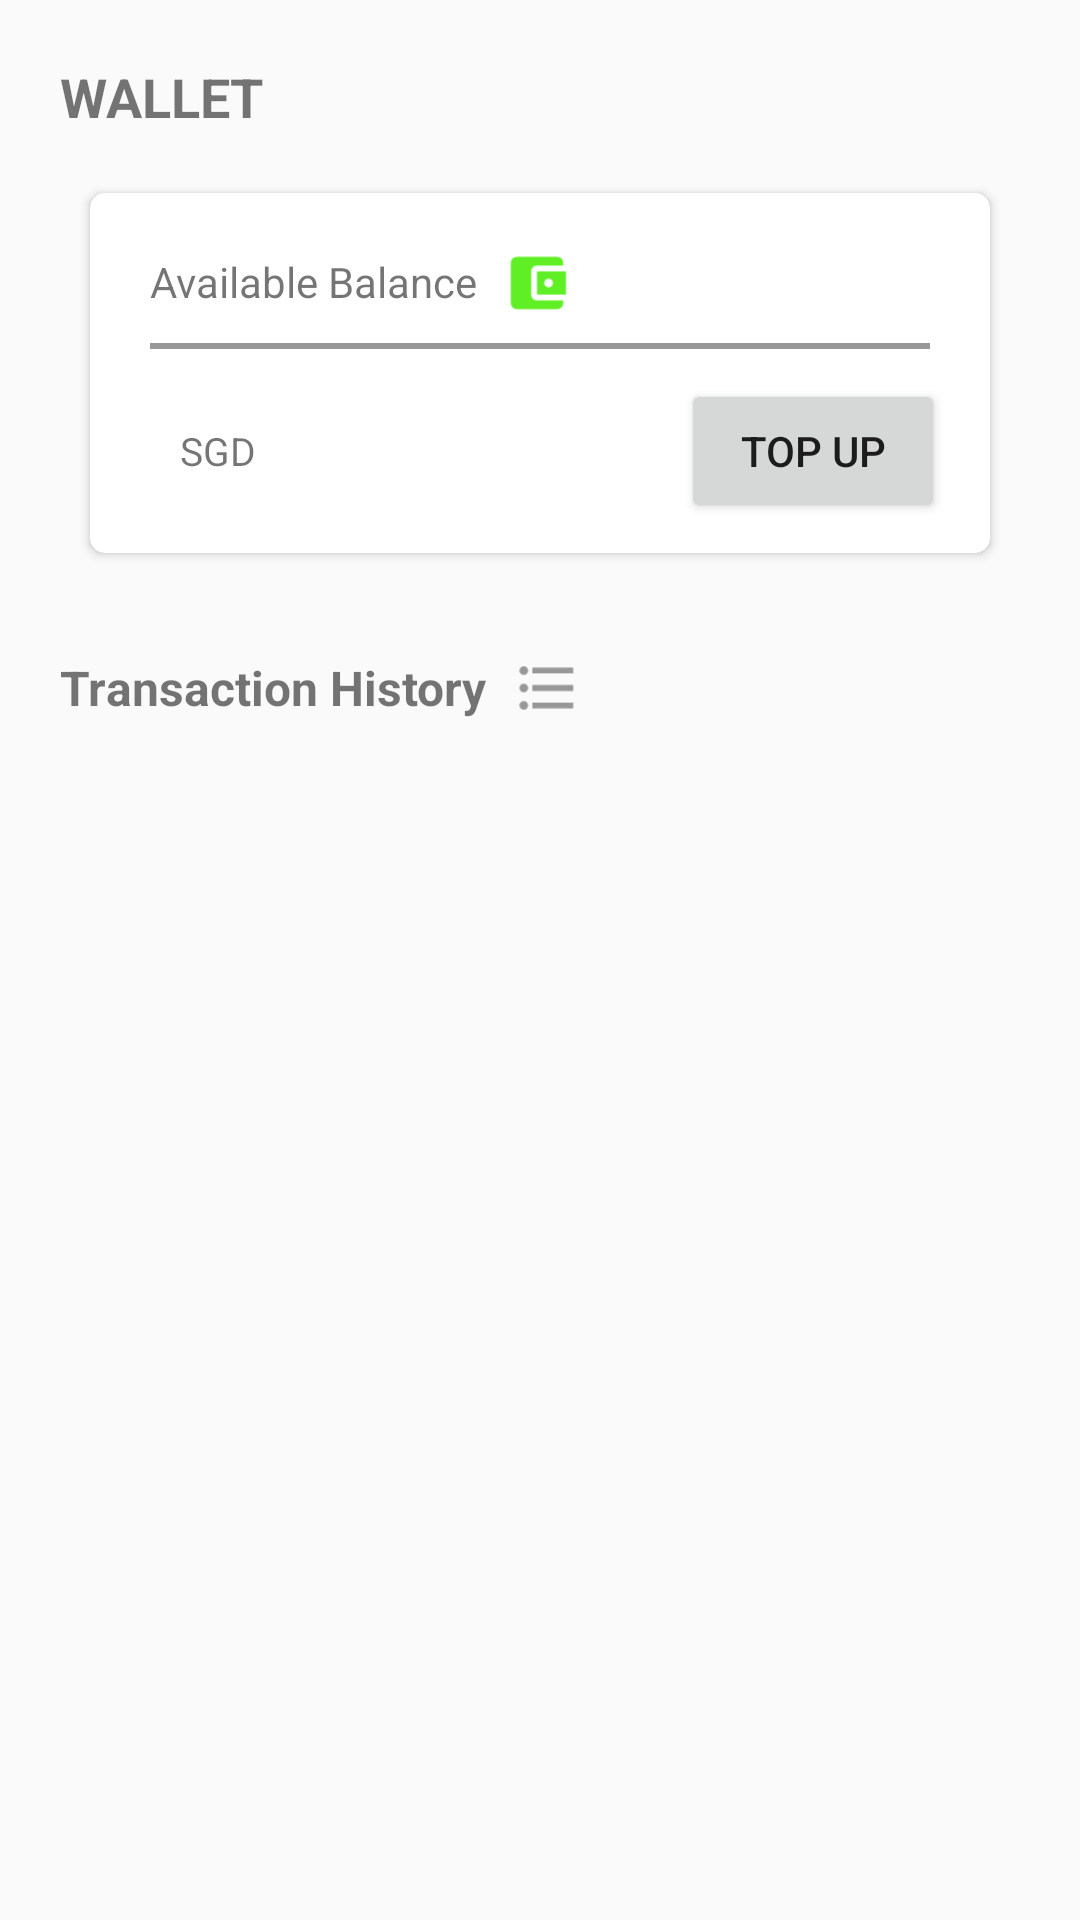

Where icons sit on this 1080*1920 app screen, as (x1, y1, x2, y2):
wallet: (510, 256, 567, 310)
